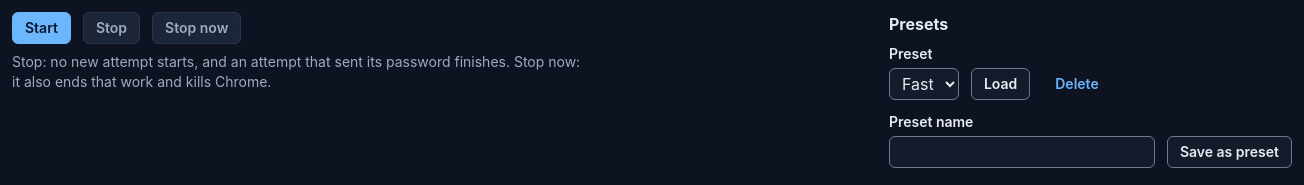
Test case: RunControls › shows a failed request
Click the button "Start" at (41,28), box [12,12,71,44]
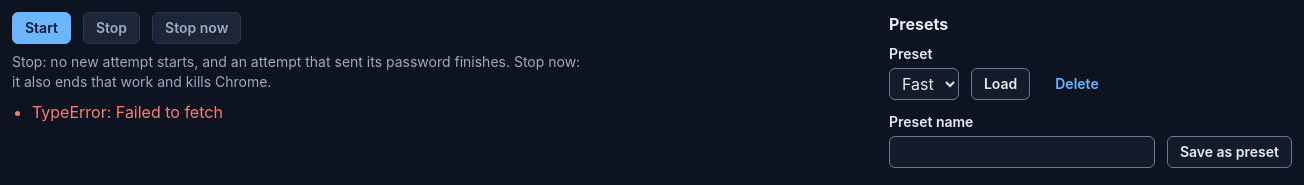
Expected: the message named "Request errors" reads "TypeError: Failed to fetch", [32,102,223,122]
